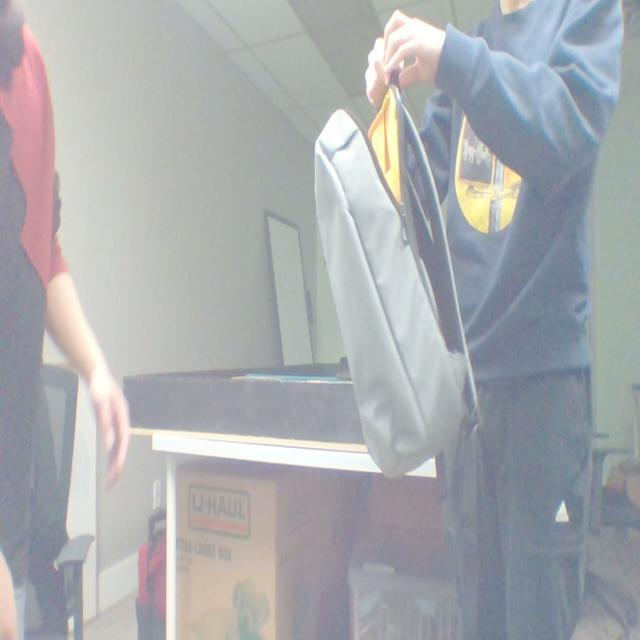Backpacks: (309, 101, 486, 472)
